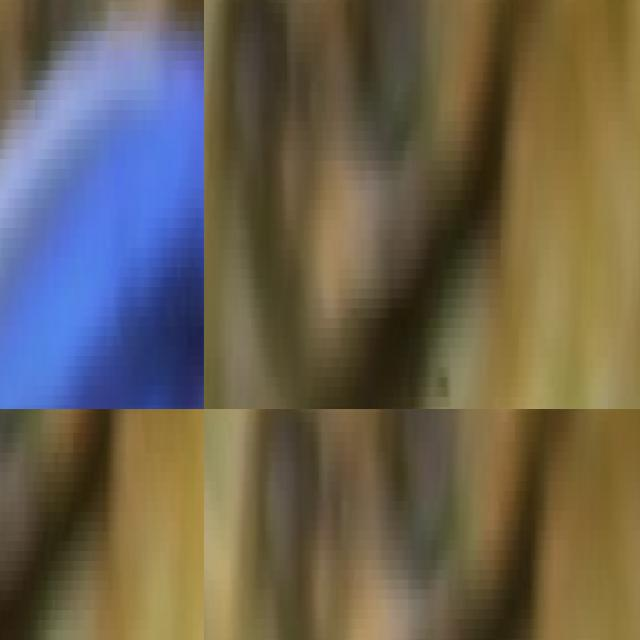fish: (0, 0, 204, 409), (0, 409, 97, 640)
